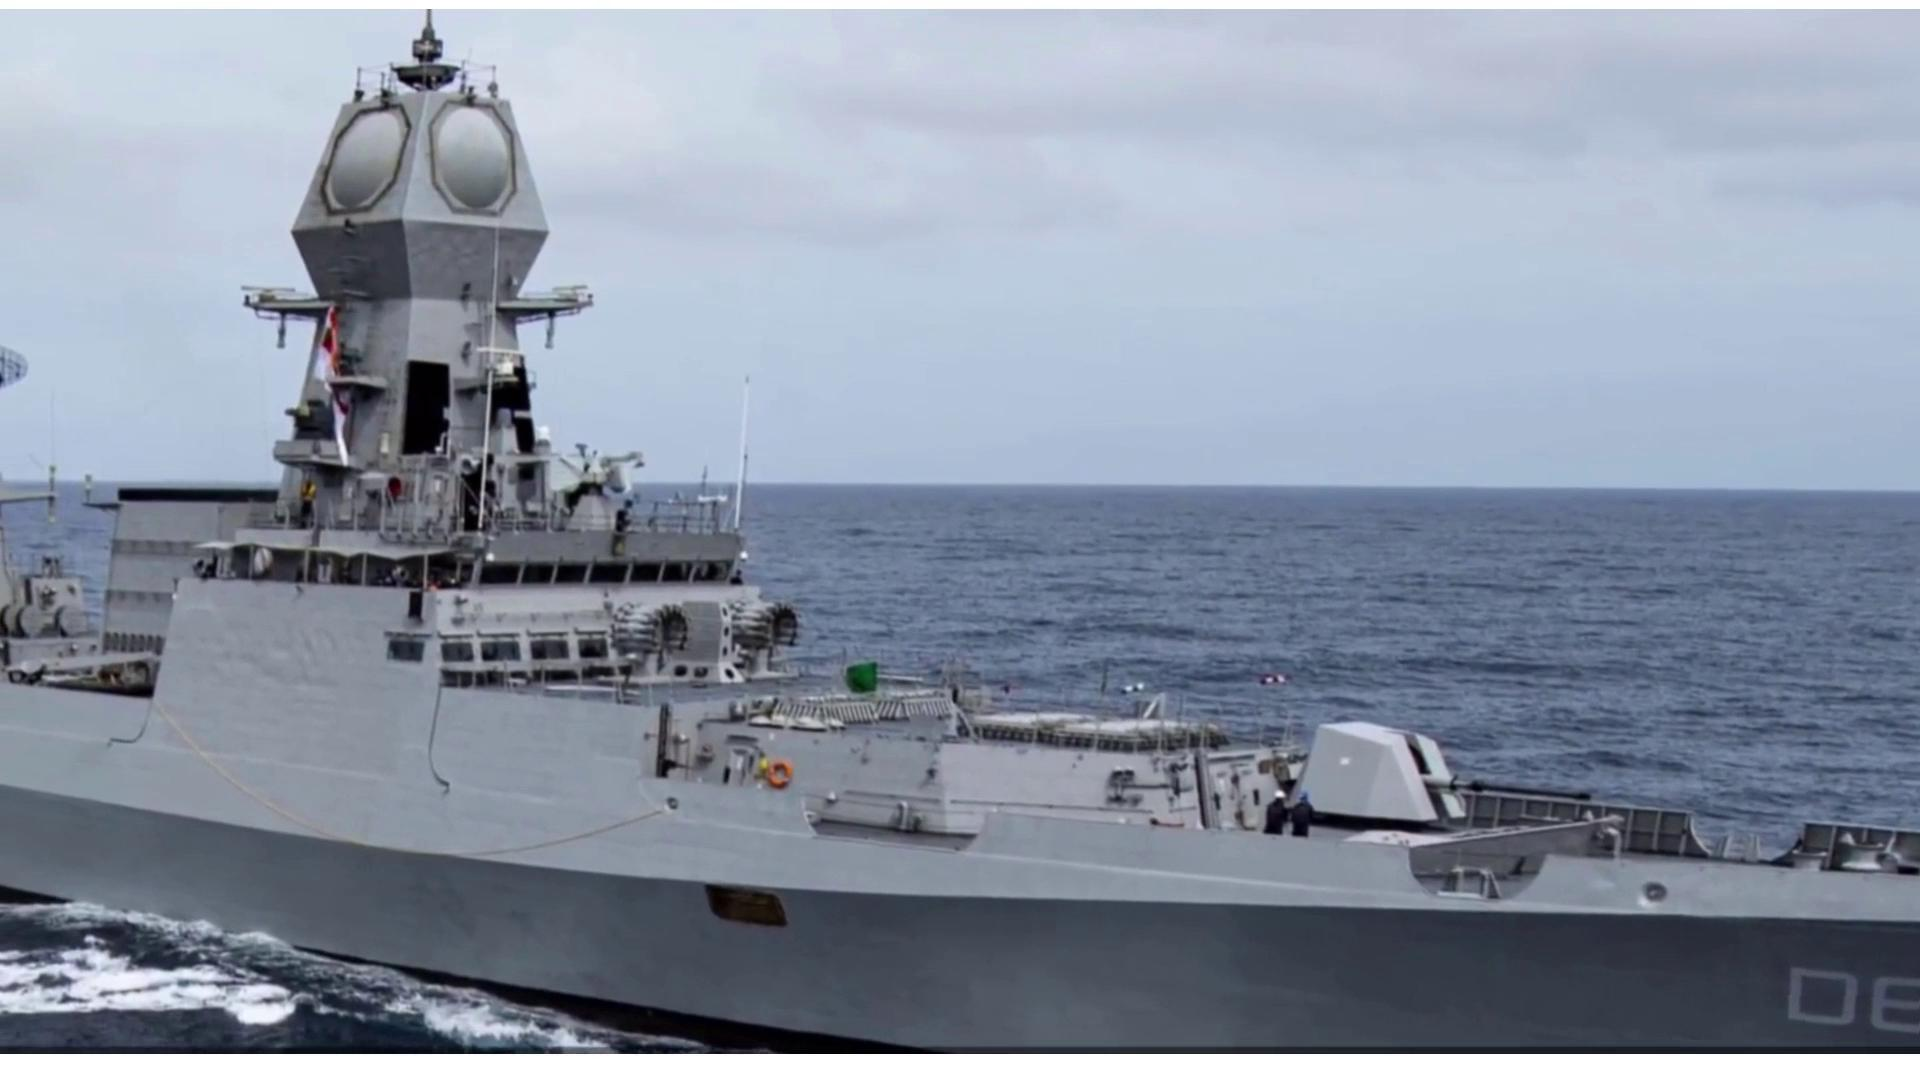OCR: (1772, 961, 1920, 1036)
